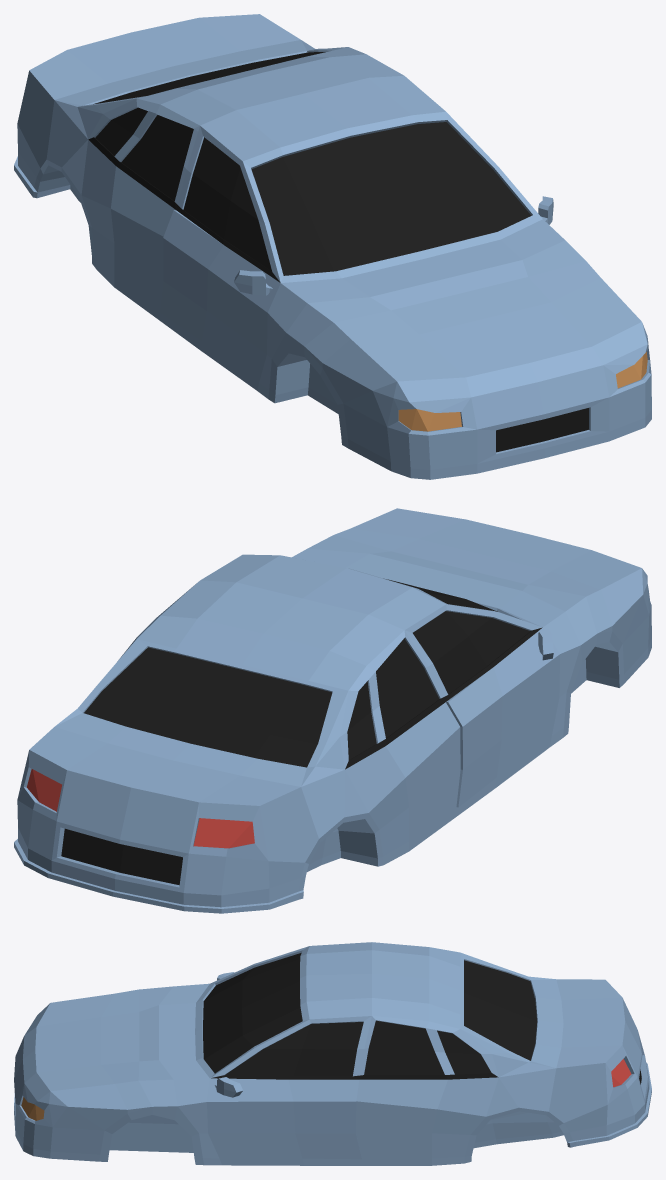
The model's file is Sedan.fbx.
3 renders of one model, top to bottom at view 1: azimuth 30°, elevation 25°; view 2: azimuth 150°, elevation 25°; view 3: azimuth 270°, elevation 25°, orthographic. The views are drawn at different scales.
Visible parts, largest first — view 1: NormalCar1_Cube.012; view 2: NormalCar1_Cube.012; view 3: NormalCar1_Cube.012.
Boxes of the visible parts, x1,y1,x2,y2 form: NormalCar1_Cube.012: (14, 14, 651, 479); NormalCar1_Cube.012: (14, 508, 651, 913); NormalCar1_Cube.012: (14, 942, 651, 1165).
Size of the model in its own units: 181 by 422 by 101.
